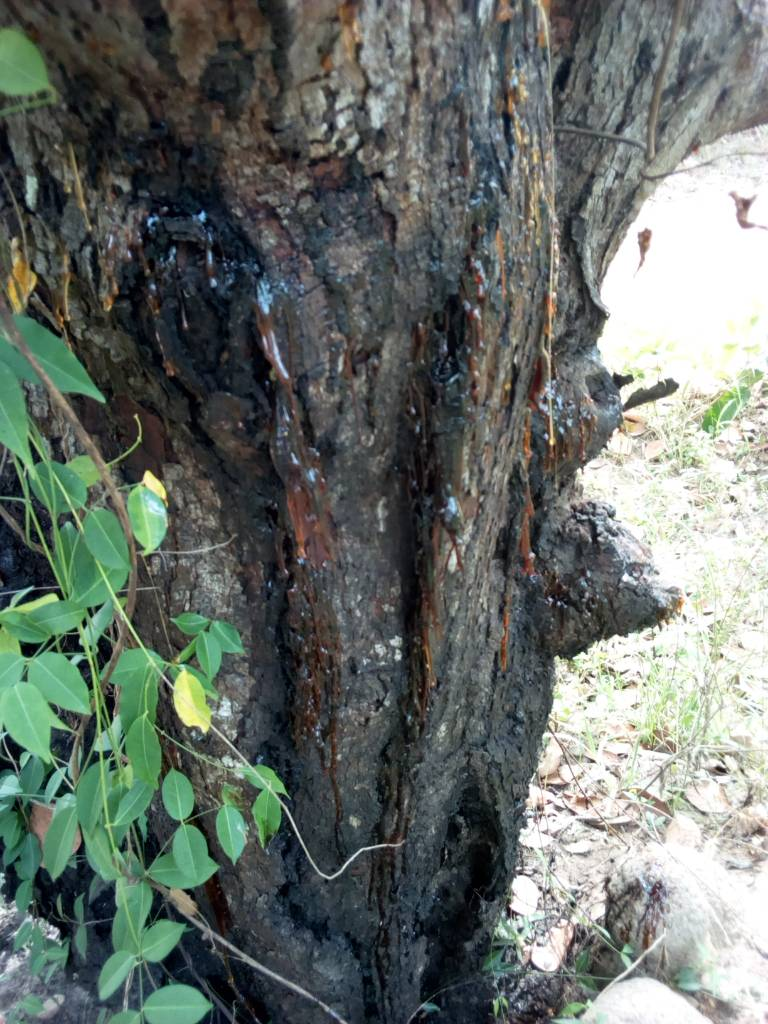Gommose: (141, 97, 547, 830)
